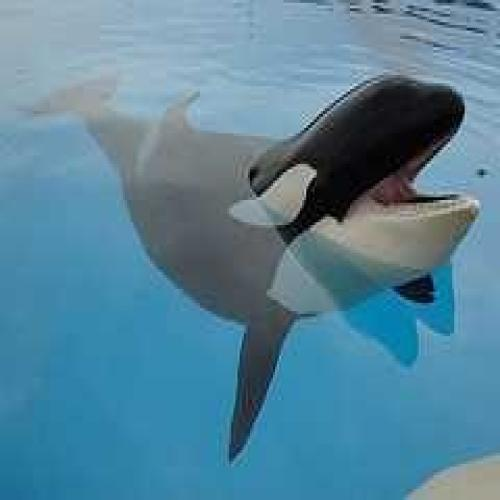killer_whale-endangered: (66, 55, 487, 339)
